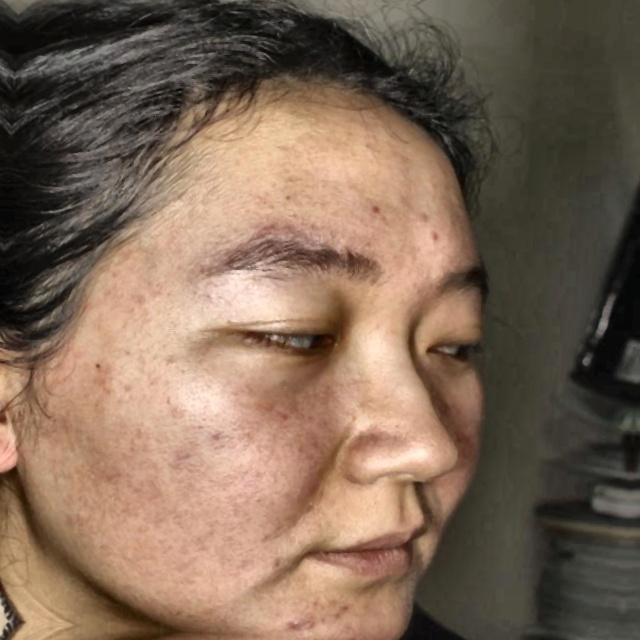comedone: (289, 608, 325, 636), (419, 207, 442, 248)
